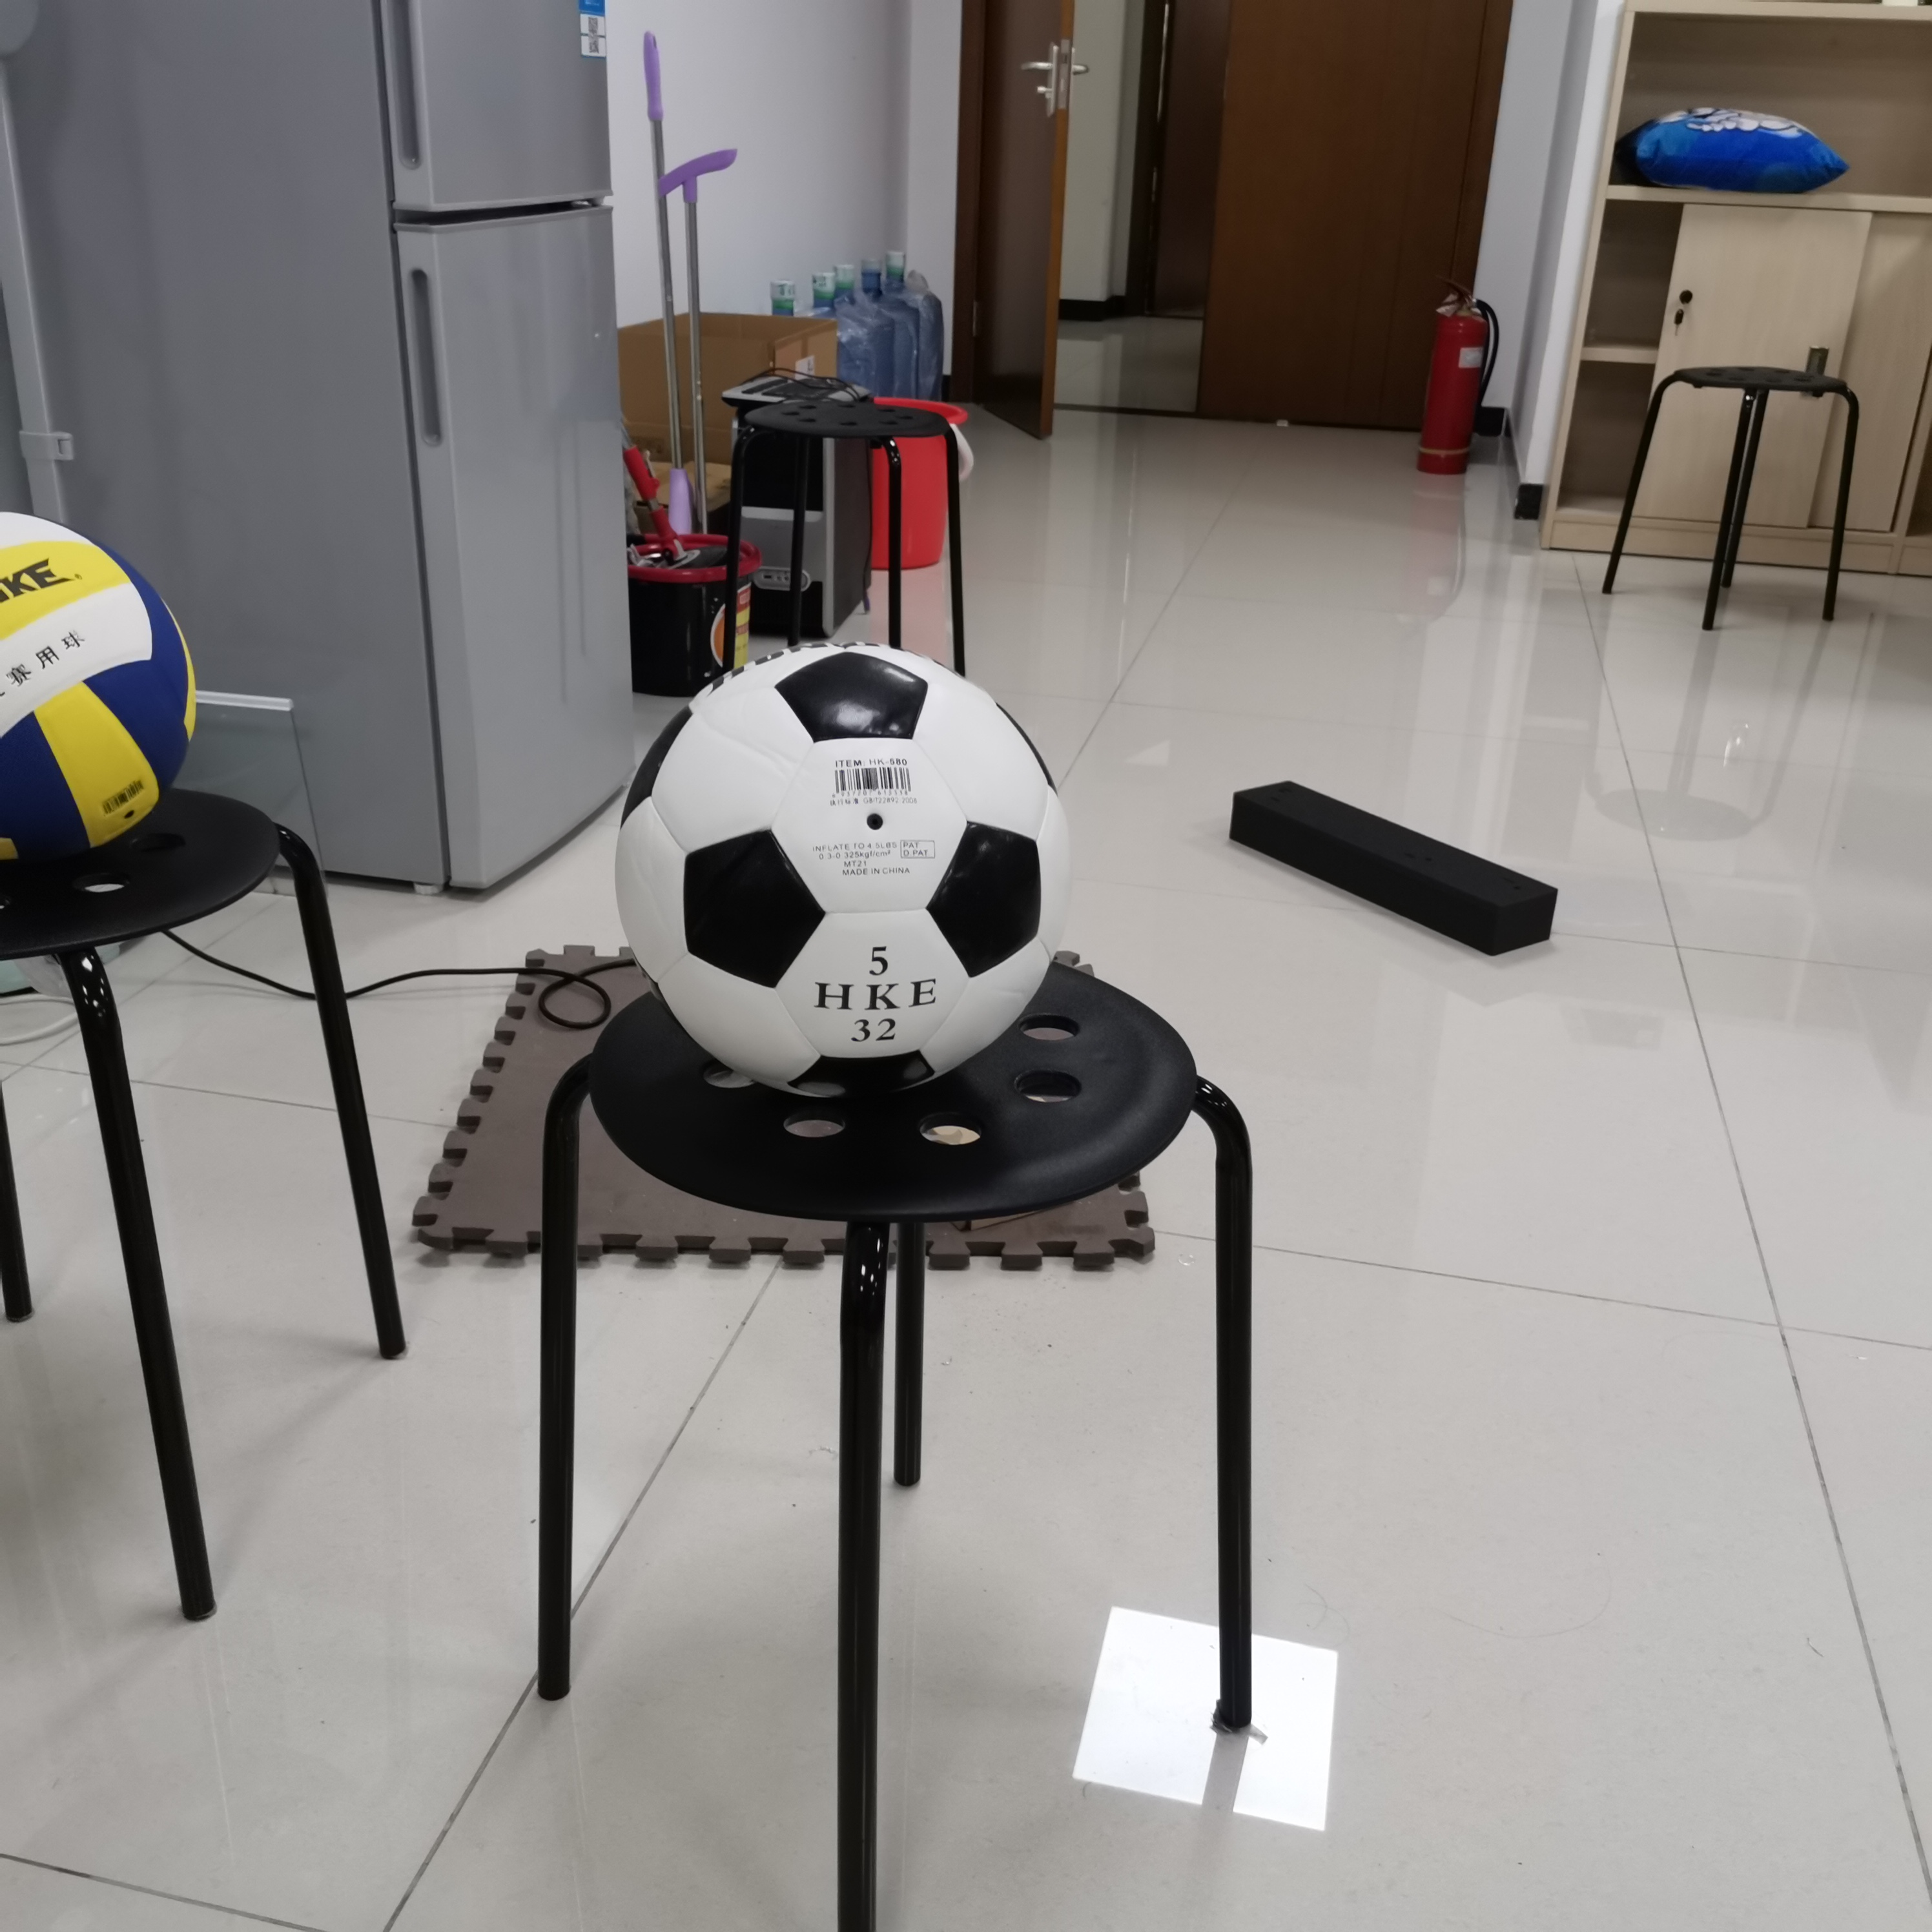football: (616, 640, 1074, 1099)
volleyball: (2, 515, 196, 860)
